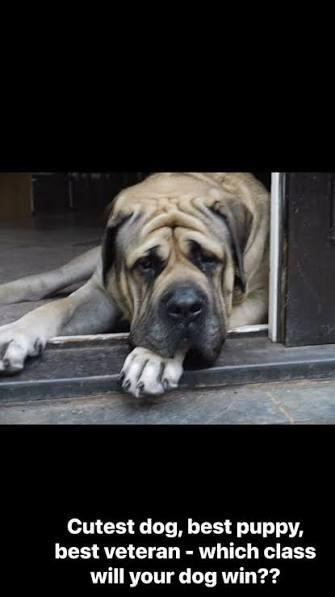adult_dog: (0, 172, 269, 395)
